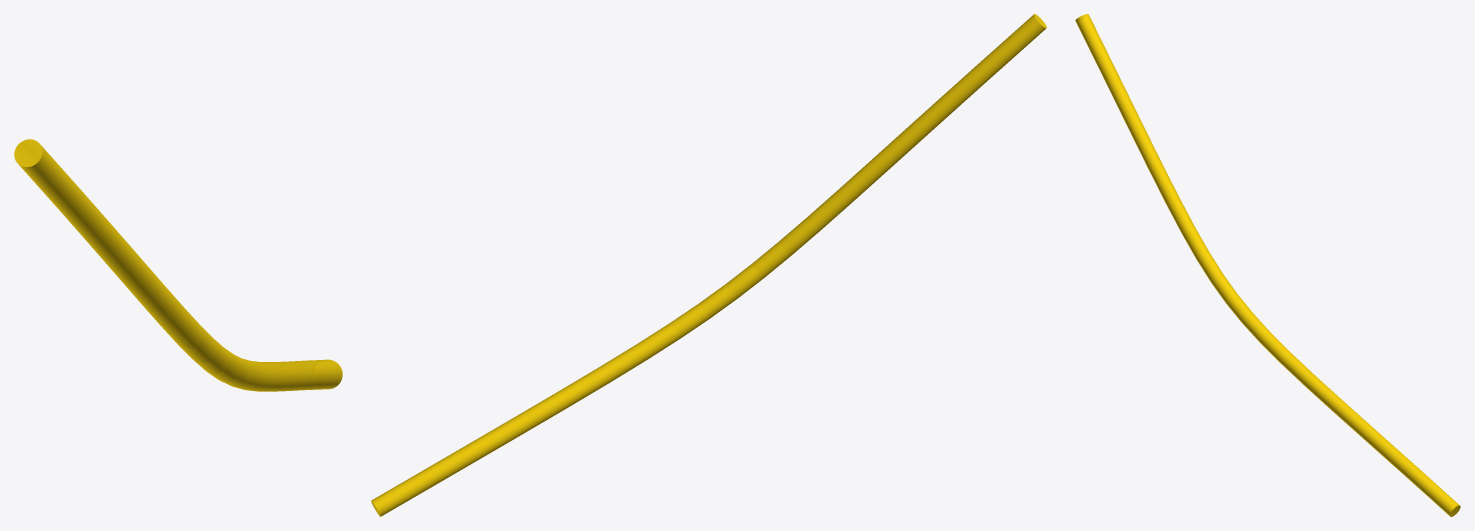
Rendered from Event_421364160_track_81.fbx.
3 renders of one model, left to right at view 1: azimuth 30°, elevation 25°; view 2: azimuth 150°, elevation 25°; view 3: azimuth 270°, elevation 25°, orthographic. The views are drawn at different scales.
Parts seen in each view (by area): view 1: Model; view 2: Model; view 3: Model.
Boxes of the visible parts, left/top/right/bottom form: Model: left=14, top=139, right=342, bottom=391; Model: left=371, top=14, right=1046, bottom=516; Model: left=1075, top=14, right=1460, bottom=516.
Bounding box in the file's own units: 1.08 × 1.01 × 1.04.
